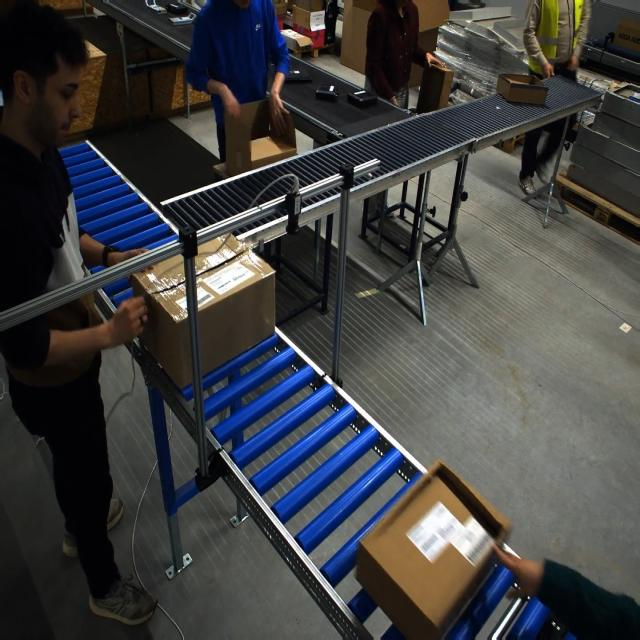box: (359, 460, 511, 638), (132, 239, 278, 389), (226, 97, 298, 178), (496, 72, 548, 105)
